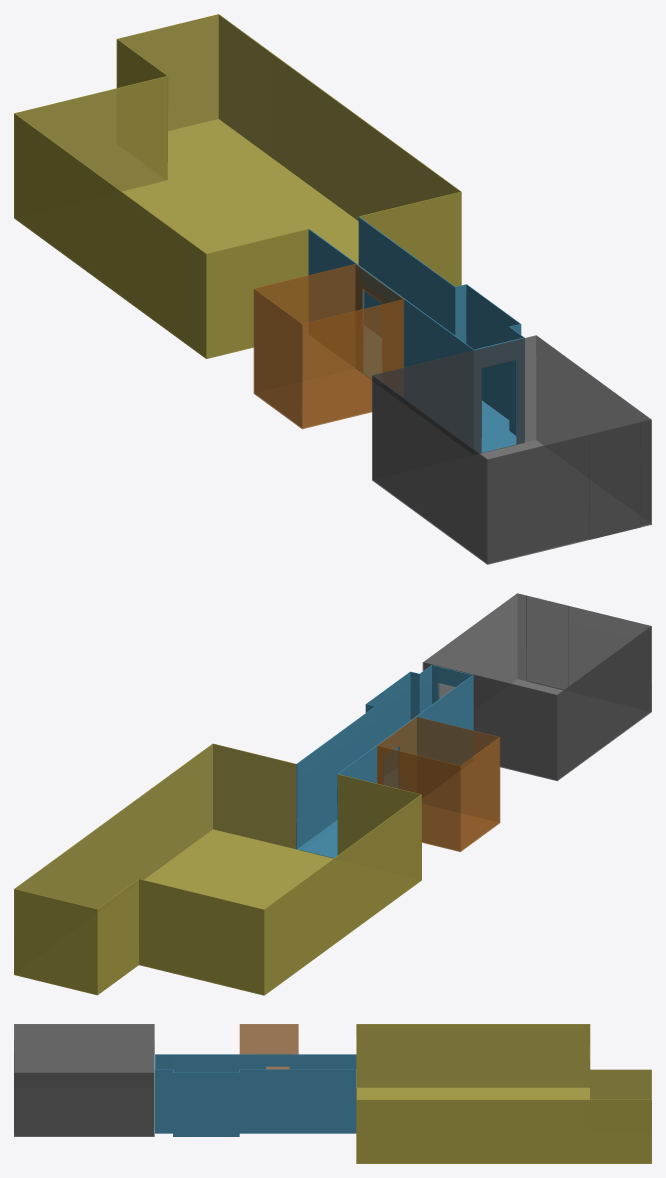
File: FlatGizmo.fbx
3 renders of one model, top to bottom at view 1: azimuth 30°, elevation 25°; view 2: azimuth 150°, elevation 25°; view 3: azimuth 270°, elevation 25°, orthographic. The views are drawn at different scales.
Visible parts, largest first — view 1: Living, Bathroom, Corridor, Corridor.001; view 2: Living, Bathroom, Corridor, Corridor.001; view 3: Living, Corridor, Bathroom, Corridor.001.
Boxes of the visible parts, bbox=[...] form: Living: bbox=[14, 14, 461, 358]; Bathroom: bbox=[372, 335, 651, 564]; Corridor: bbox=[308, 217, 524, 453]; Corridor.001: bbox=[253, 264, 404, 429]; Living: bbox=[14, 743, 421, 995]; Bathroom: bbox=[422, 593, 651, 781]; Corridor: bbox=[296, 665, 473, 858]; Corridor.001: bbox=[377, 717, 500, 851]; Living: bbox=[356, 1024, 651, 1163]; Corridor: bbox=[155, 1054, 356, 1136]; Bathroom: bbox=[14, 1024, 154, 1136]; Corridor.001: bbox=[239, 1024, 298, 1069].
Size of the model in its own units: 250 by 98.24 by 888.
